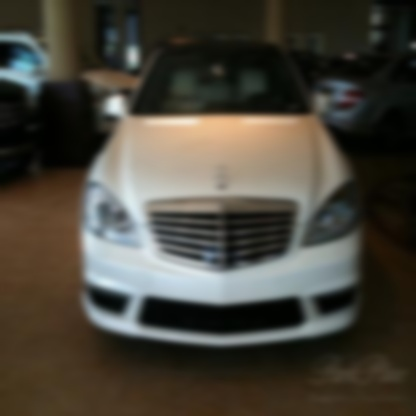Vehicle: (79, 34, 367, 348)
